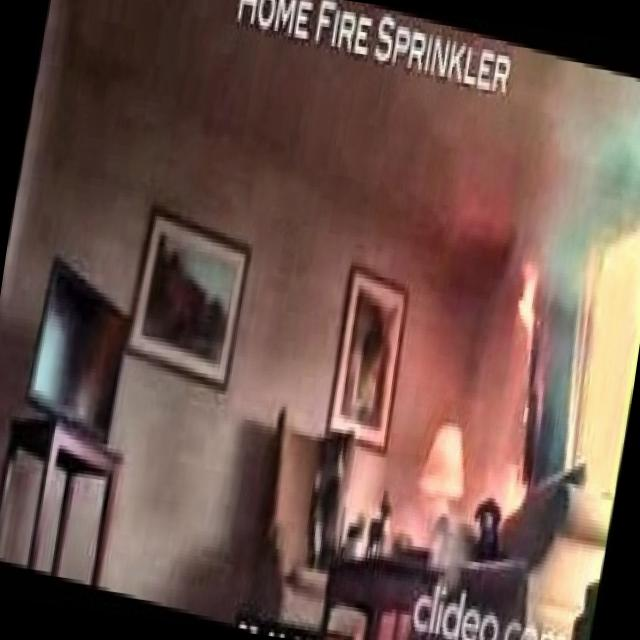fire: (432, 174, 594, 557)
